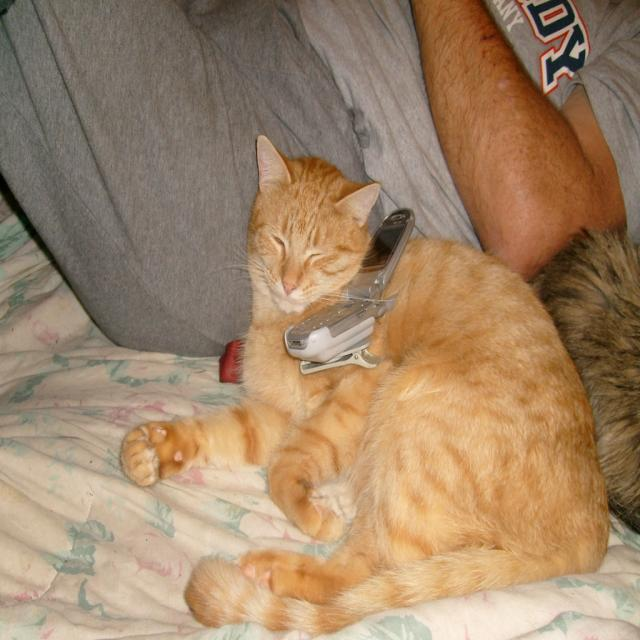Cat: (113, 134, 616, 638)
